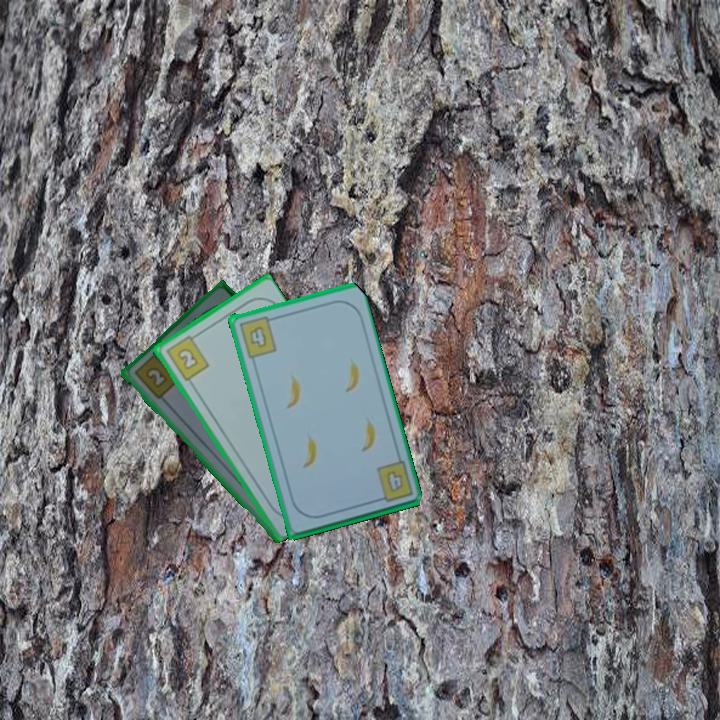2b: (130, 349, 181, 402), (162, 330, 212, 384)
4b: (371, 458, 416, 505), (235, 312, 279, 360)
